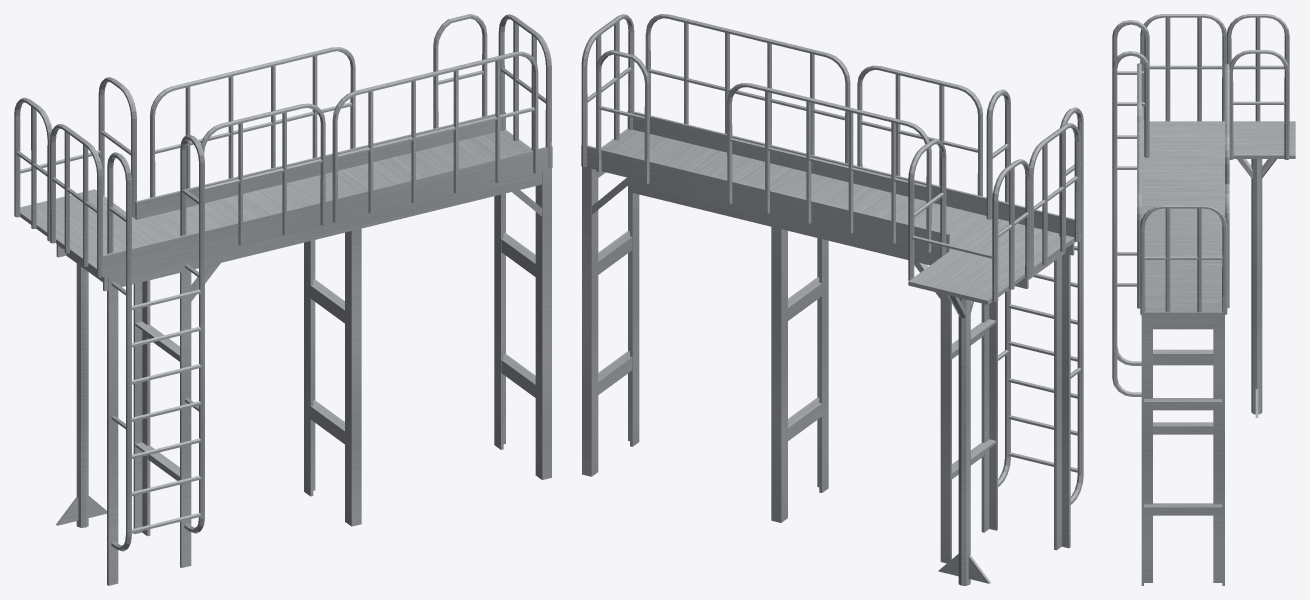
3 renders of one model, left to right at view 1: azimuth 30°, elevation 25°; view 2: azimuth 150°, elevation 25°; view 3: azimuth 270°, elevation 25°, orthographic. The views are drawn at different scales.
Visible parts, largest first — view 1: obj_066; view 2: obj_066; view 3: obj_066.
Boxes of the visible parts, box(x1,y1,x2,y2) form: obj_066: box(14, 14, 552, 585); obj_066: box(581, 14, 1083, 585); obj_066: box(1112, 14, 1295, 585).
Size of the model in its own units: 432 by 396 by 173.
